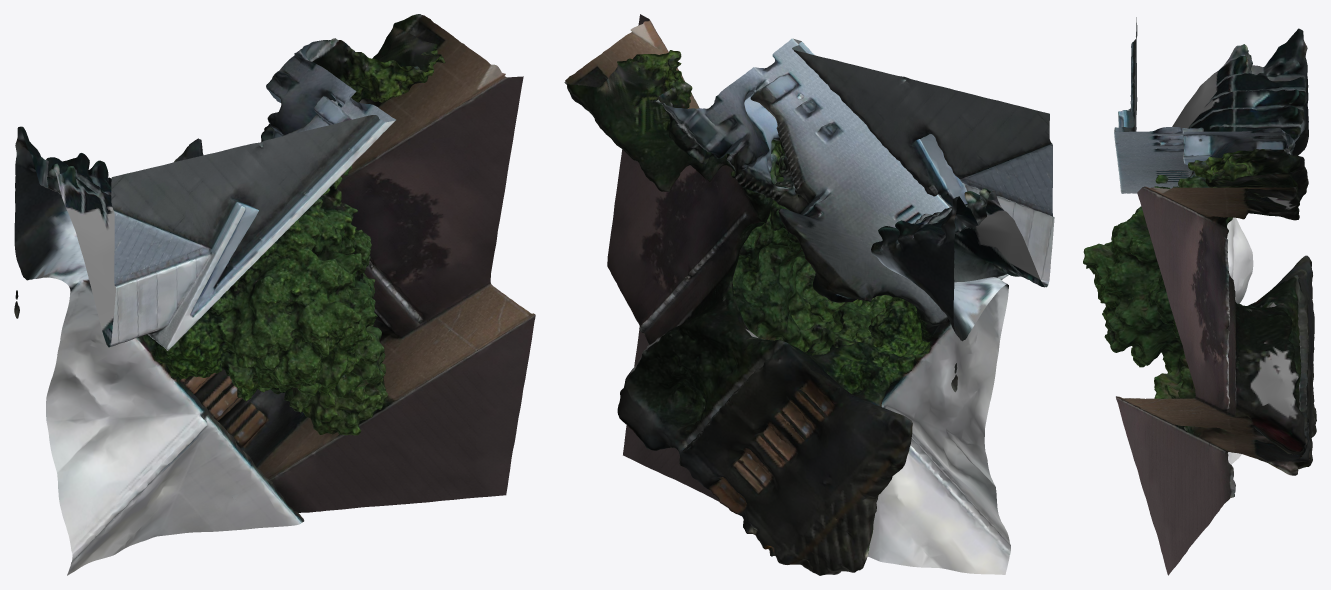
Rendered from Tile_+014_+013.fbx.
The picture shows the model from 3 angles, left to right: view 1: azimuth 30°, elevation 25°; view 2: azimuth 150°, elevation 25°; view 3: azimuth 270°, elevation 25°; orthographic projection. The views are drawn at different scales.
Parts seen in each view (by area): view 1: DefaultName; view 2: DefaultName; view 3: DefaultName.
Boxes of the visible parts, x1=… form: DefaultName: x1=14, y1=14, x2=535, y2=575; DefaultName: x1=564, y1=14, x2=1054, y2=575; DefaultName: x1=1083, y1=17, x2=1316, y2=575.
Size of the model in its own units: 22.54 by 22.54 by 12.47.
